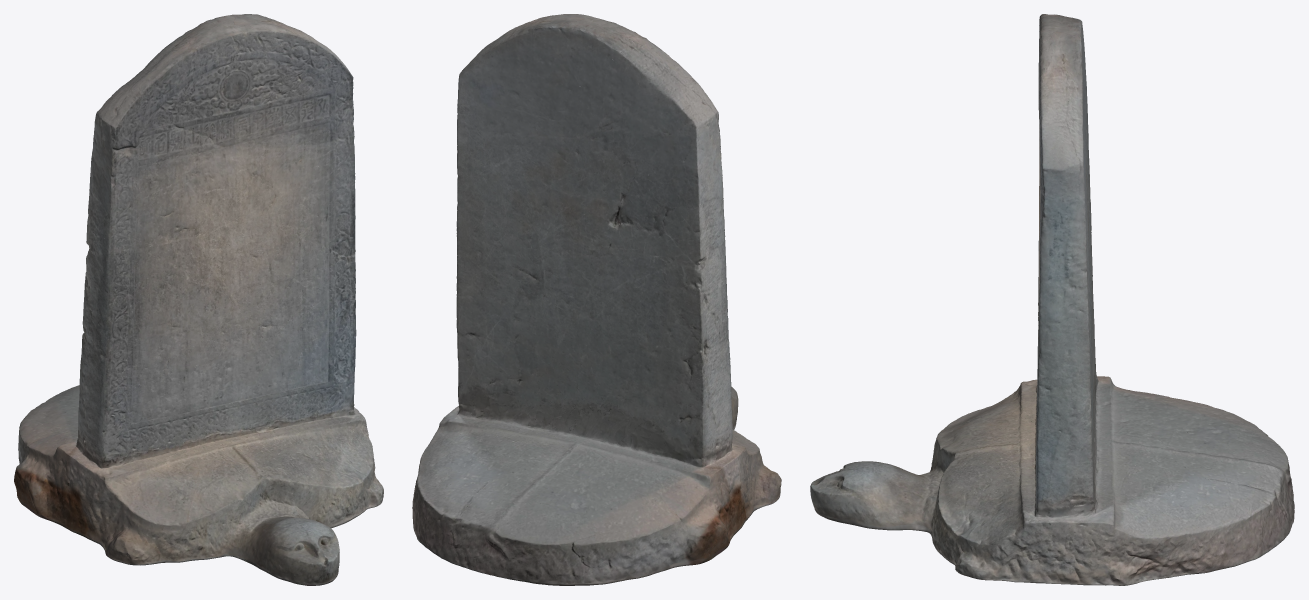
The model's file is bia-1604.glb.
The picture shows the model from 3 angles, left to right: view 1: azimuth 30°, elevation 25°; view 2: azimuth 150°, elevation 25°; view 3: azimuth 270°, elevation 25°; orthographic projection. The views are drawn at different scales.
Parts seen in each view (by area): view 1: 10-1604; view 2: 10-1604; view 3: 10-1604.
Boxes of the visible parts, box(x1,y1,x2,y2) form: 10-1604: box(14, 14, 383, 585); 10-1604: box(412, 14, 781, 585); 10-1604: box(810, 14, 1294, 585).
Size of the model in its own units: 0.6615 by 1 by 0.891.
Materials: 1 (1 with a texture image).
